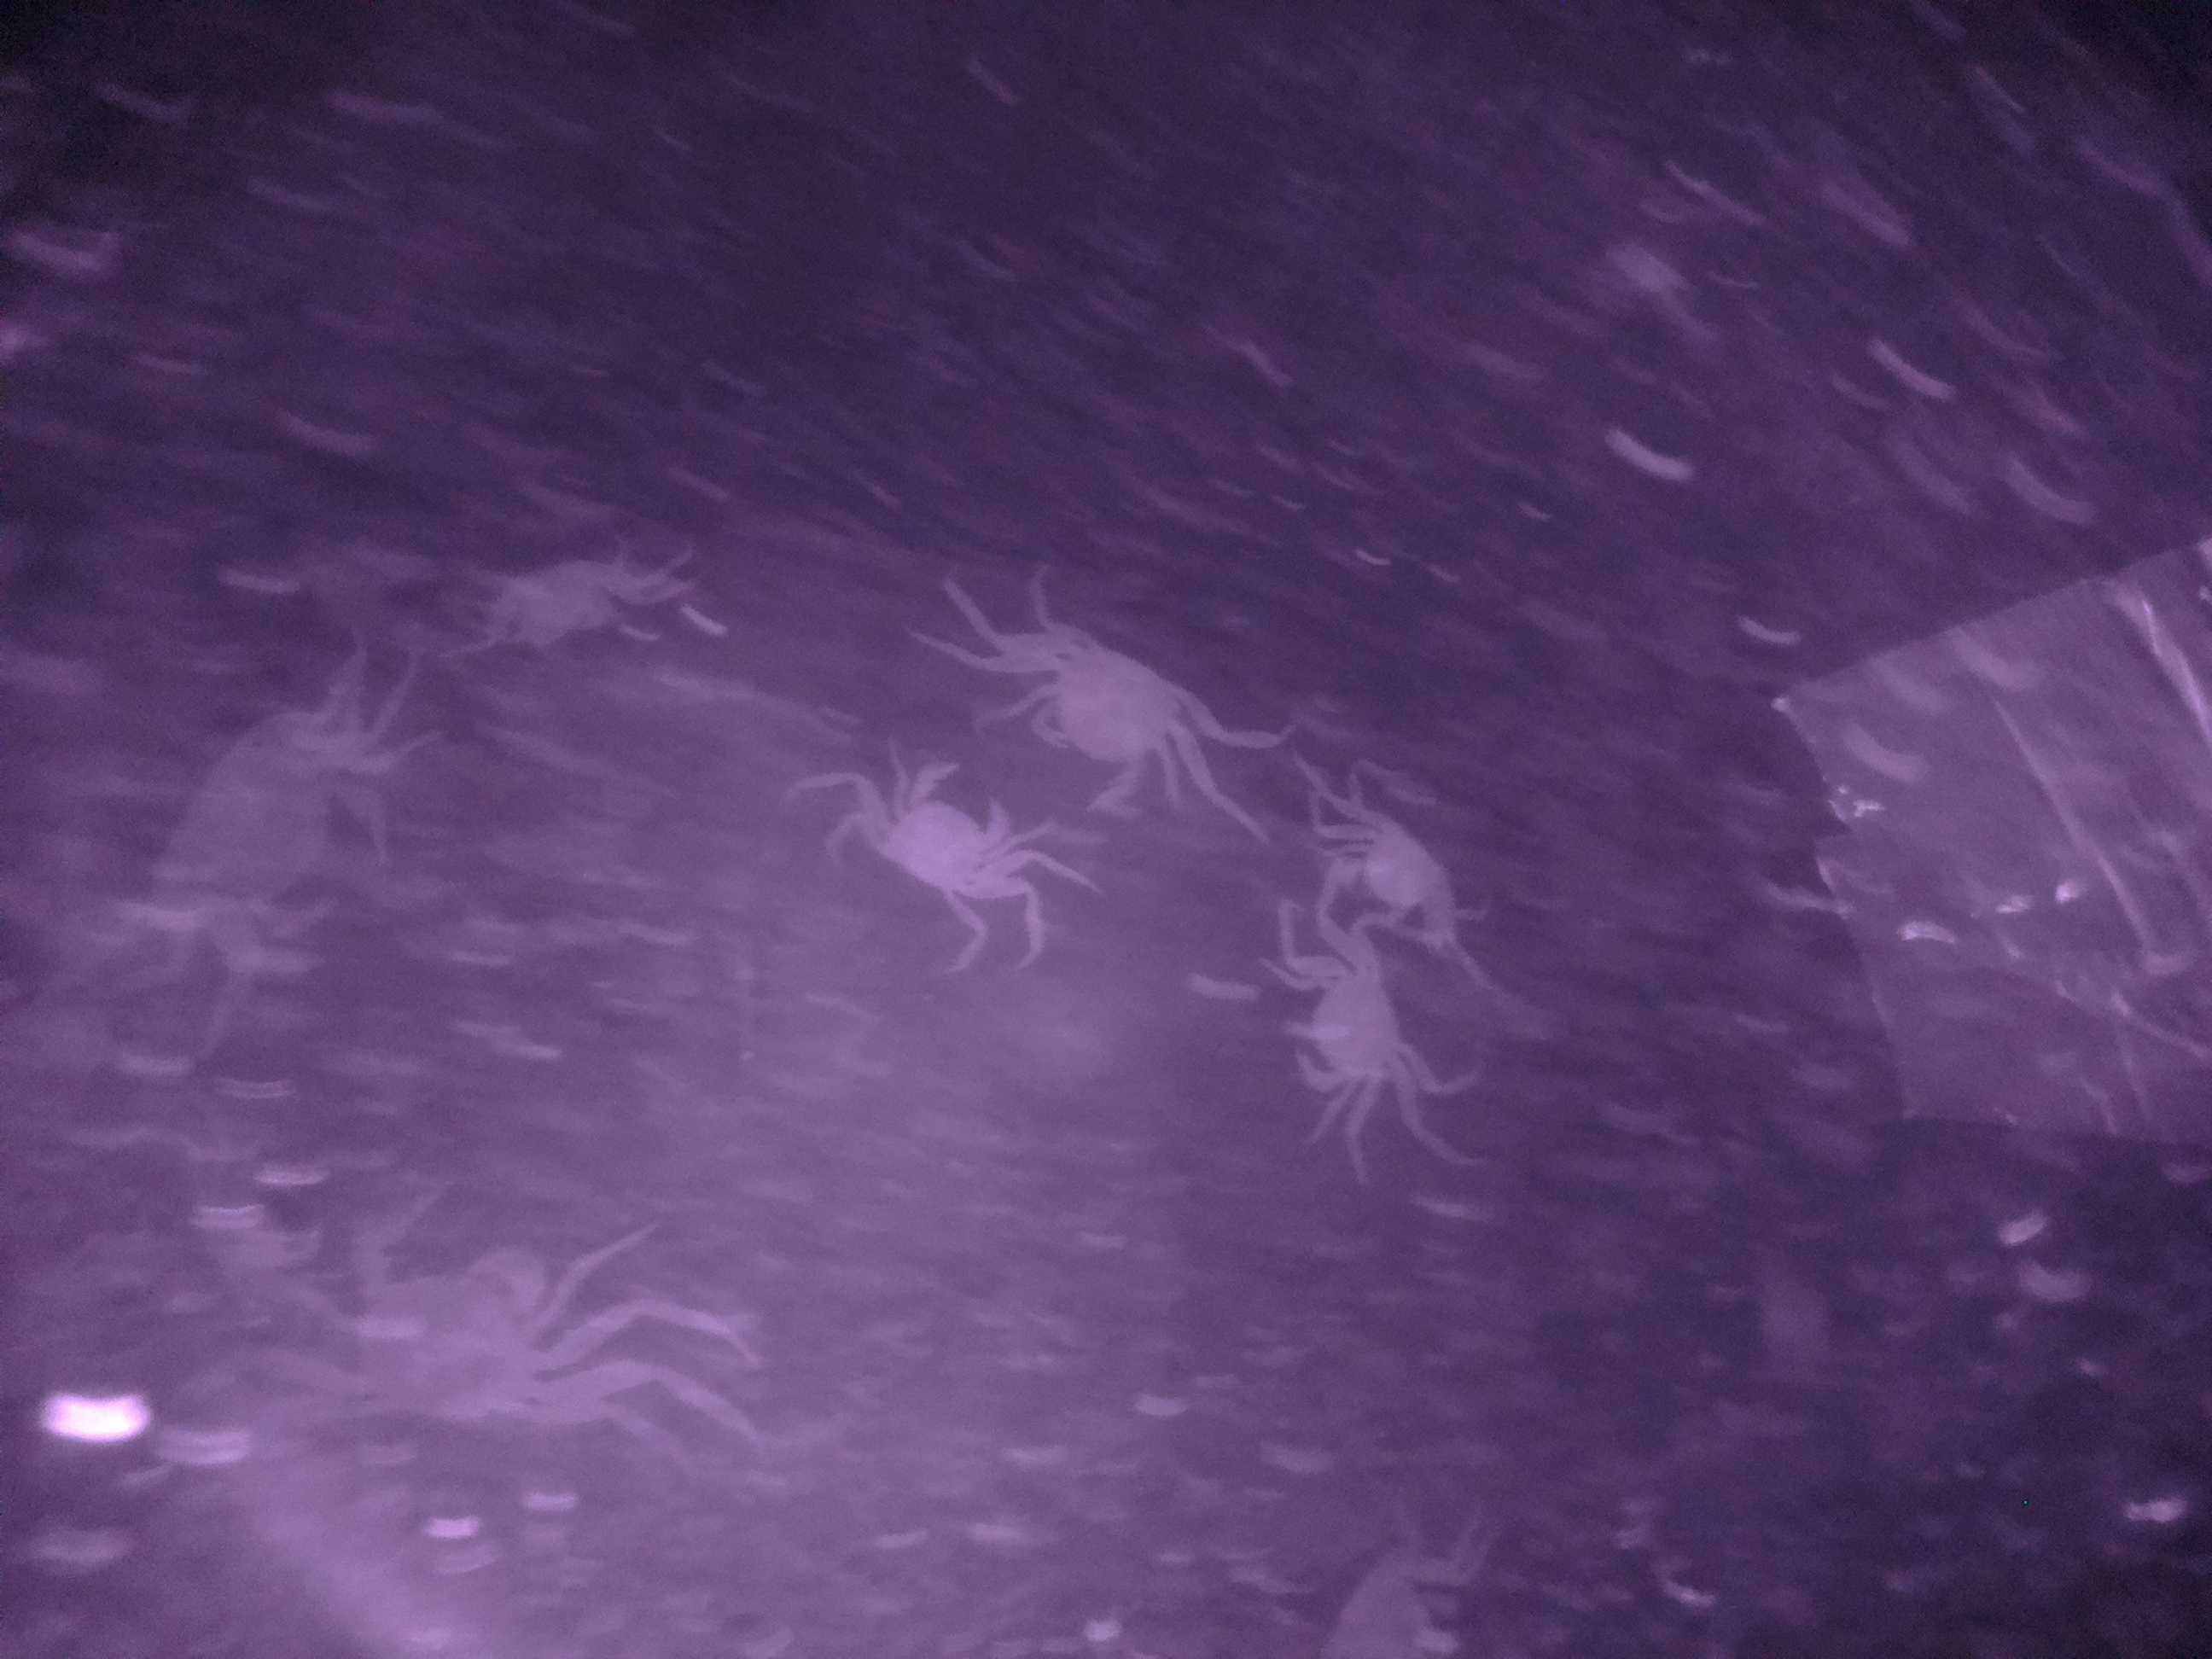Crab: (1014, 615, 1204, 819), (1256, 939, 1428, 1098), (862, 753, 1021, 910), (1308, 796, 1480, 938)
